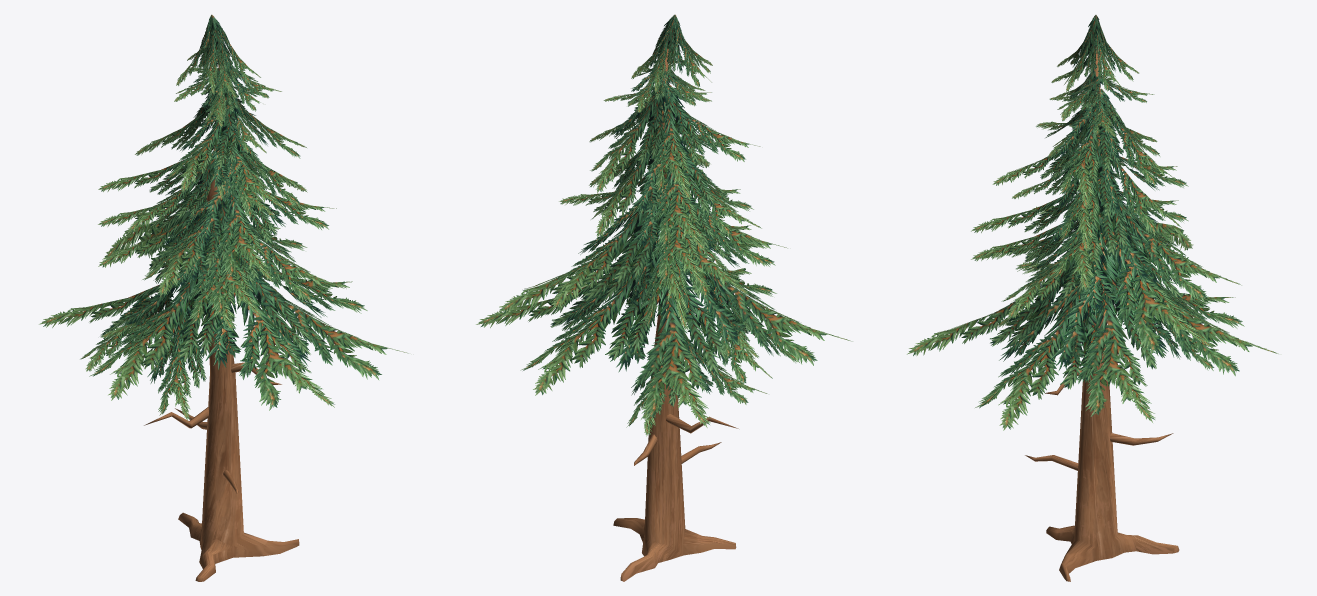
The model's file is PineTree_1.fbx.
3 views of the same model, side by side, from view 1: azimuth 30°, elevation 25°; view 2: azimuth 150°, elevation 25°; view 3: azimuth 270°, elevation 25° (orthographic).
Parts seen in each view (by area): view 1: PineTree_1; view 2: PineTree_1; view 3: PineTree_1.
Part boxes in pixels (x1,y1,x2,y2): PineTree_1: [39, 14, 408, 581]; PineTree_1: [476, 14, 852, 581]; PineTree_1: [907, 15, 1278, 581].
Size of the model in its own units: 10.62 by 15.29 by 10.43.
